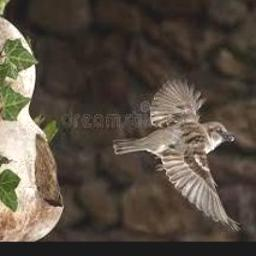Sparrow: (112, 78, 242, 232)
